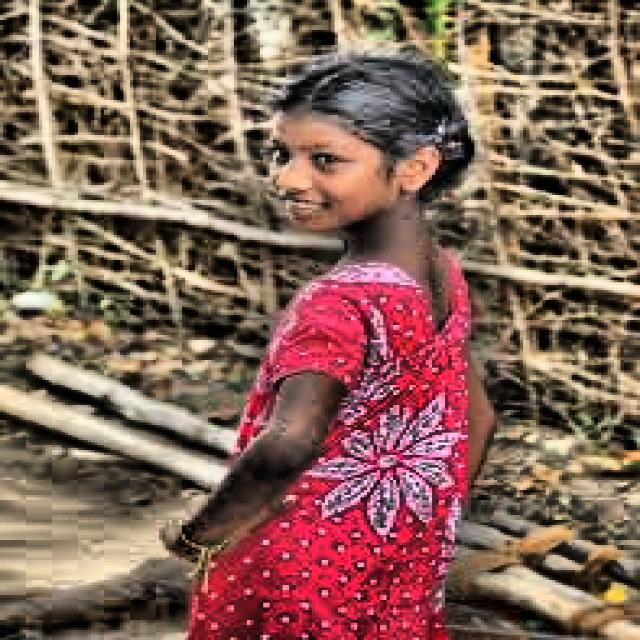Human: (148, 48, 520, 640)
